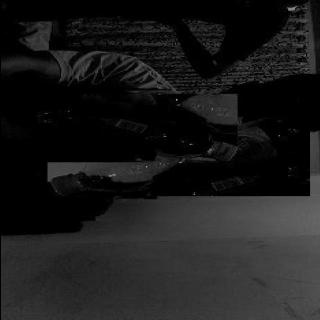plastic_bottles: (46, 118, 309, 196), (36, 94, 236, 162)
